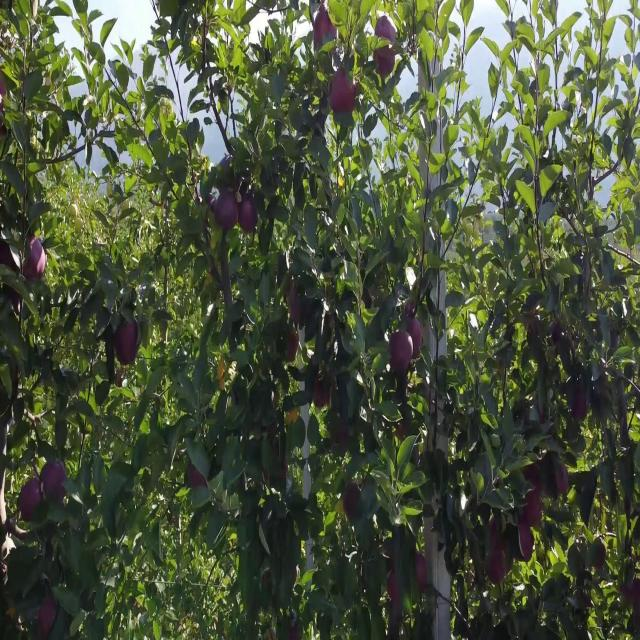apple: (20, 234, 48, 284), (212, 191, 239, 235), (116, 319, 140, 368), (332, 71, 358, 116), (20, 476, 44, 524), (312, 7, 337, 46), (376, 35, 397, 80), (388, 334, 411, 375), (44, 462, 68, 500), (284, 284, 303, 325), (524, 490, 544, 528), (488, 547, 507, 585), (240, 199, 260, 235), (40, 597, 57, 638), (312, 376, 331, 412), (408, 319, 424, 359), (344, 483, 360, 523), (376, 49, 396, 80), (376, 14, 397, 43), (572, 383, 588, 421), (488, 519, 507, 551), (524, 462, 542, 494), (624, 575, 640, 610), (188, 462, 207, 491), (520, 526, 535, 562), (416, 554, 428, 596), (388, 568, 400, 608), (556, 462, 569, 498), (596, 540, 608, 571), (288, 334, 300, 363), (4, 241, 15, 270), (336, 426, 349, 450), (396, 426, 406, 444), (220, 362, 226, 391), (288, 412, 299, 427), (284, 462, 288, 482)
